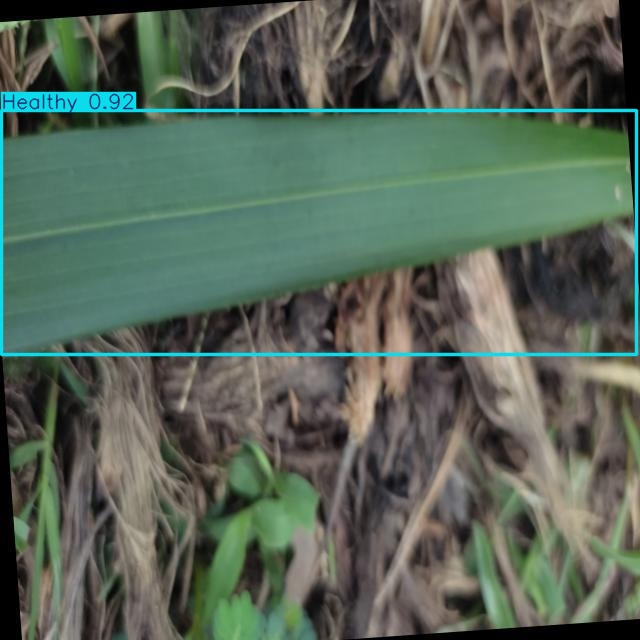Healthy: (1, 111, 636, 354)
